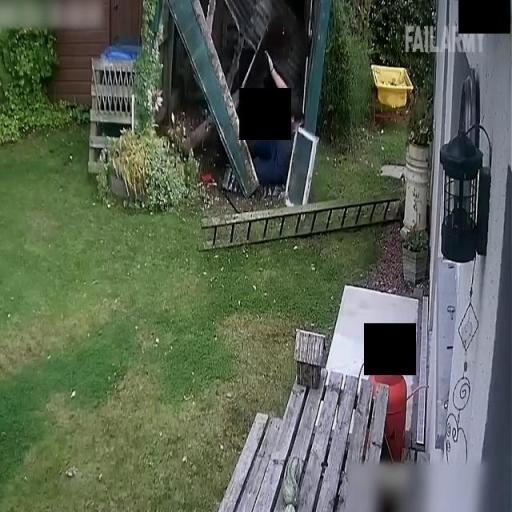Fall: (241, 50, 307, 188)
